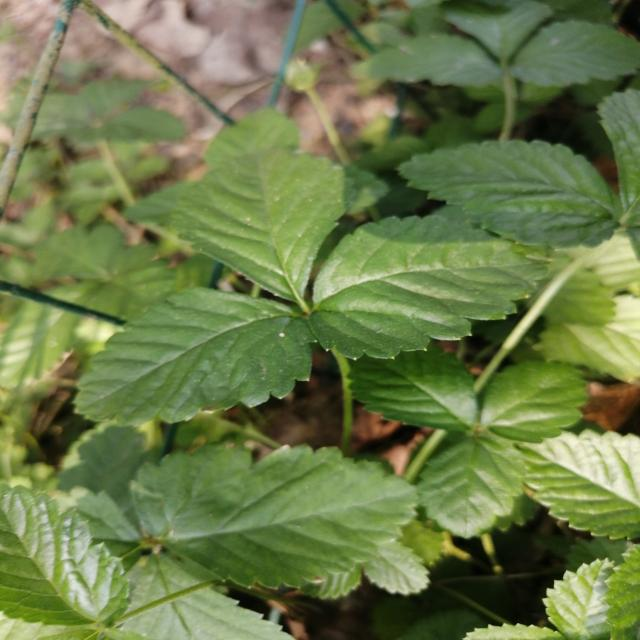Mock_strawberry: (75, 152, 522, 420)
